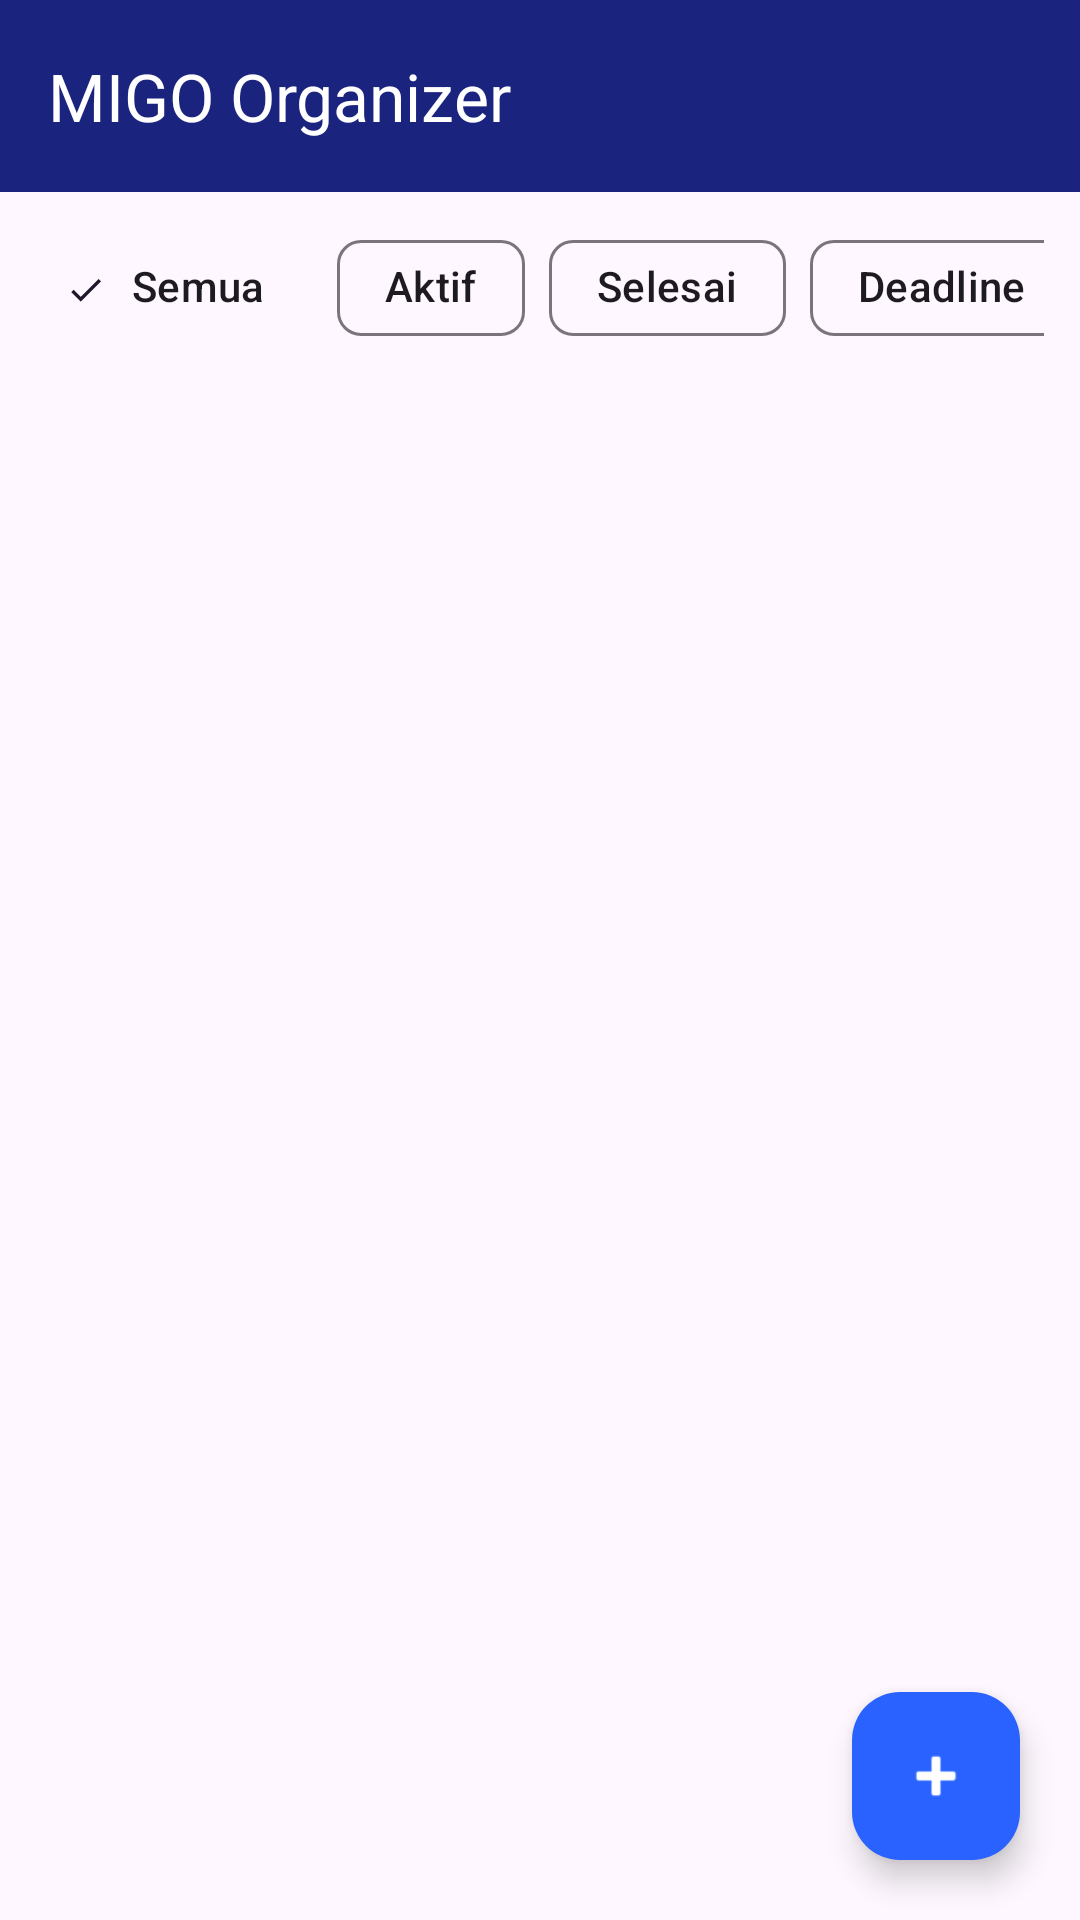

Point at icon controls on the screen. Image size 1080x1920, points as (x=x, y=y).
Tambah Tugas Baru: (x=936, y=1776)
